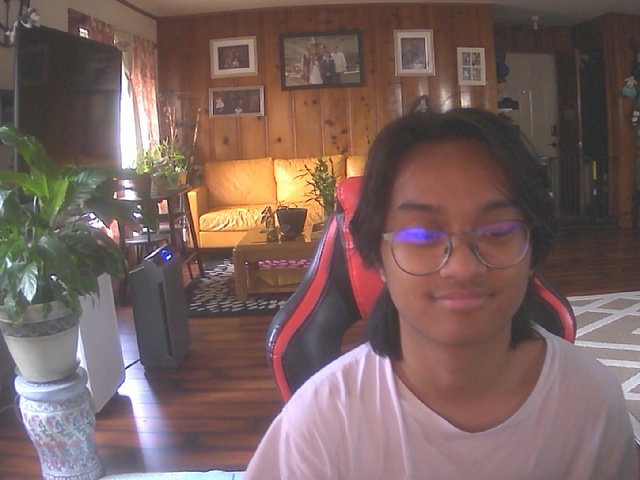happy: (372, 122, 547, 345)
